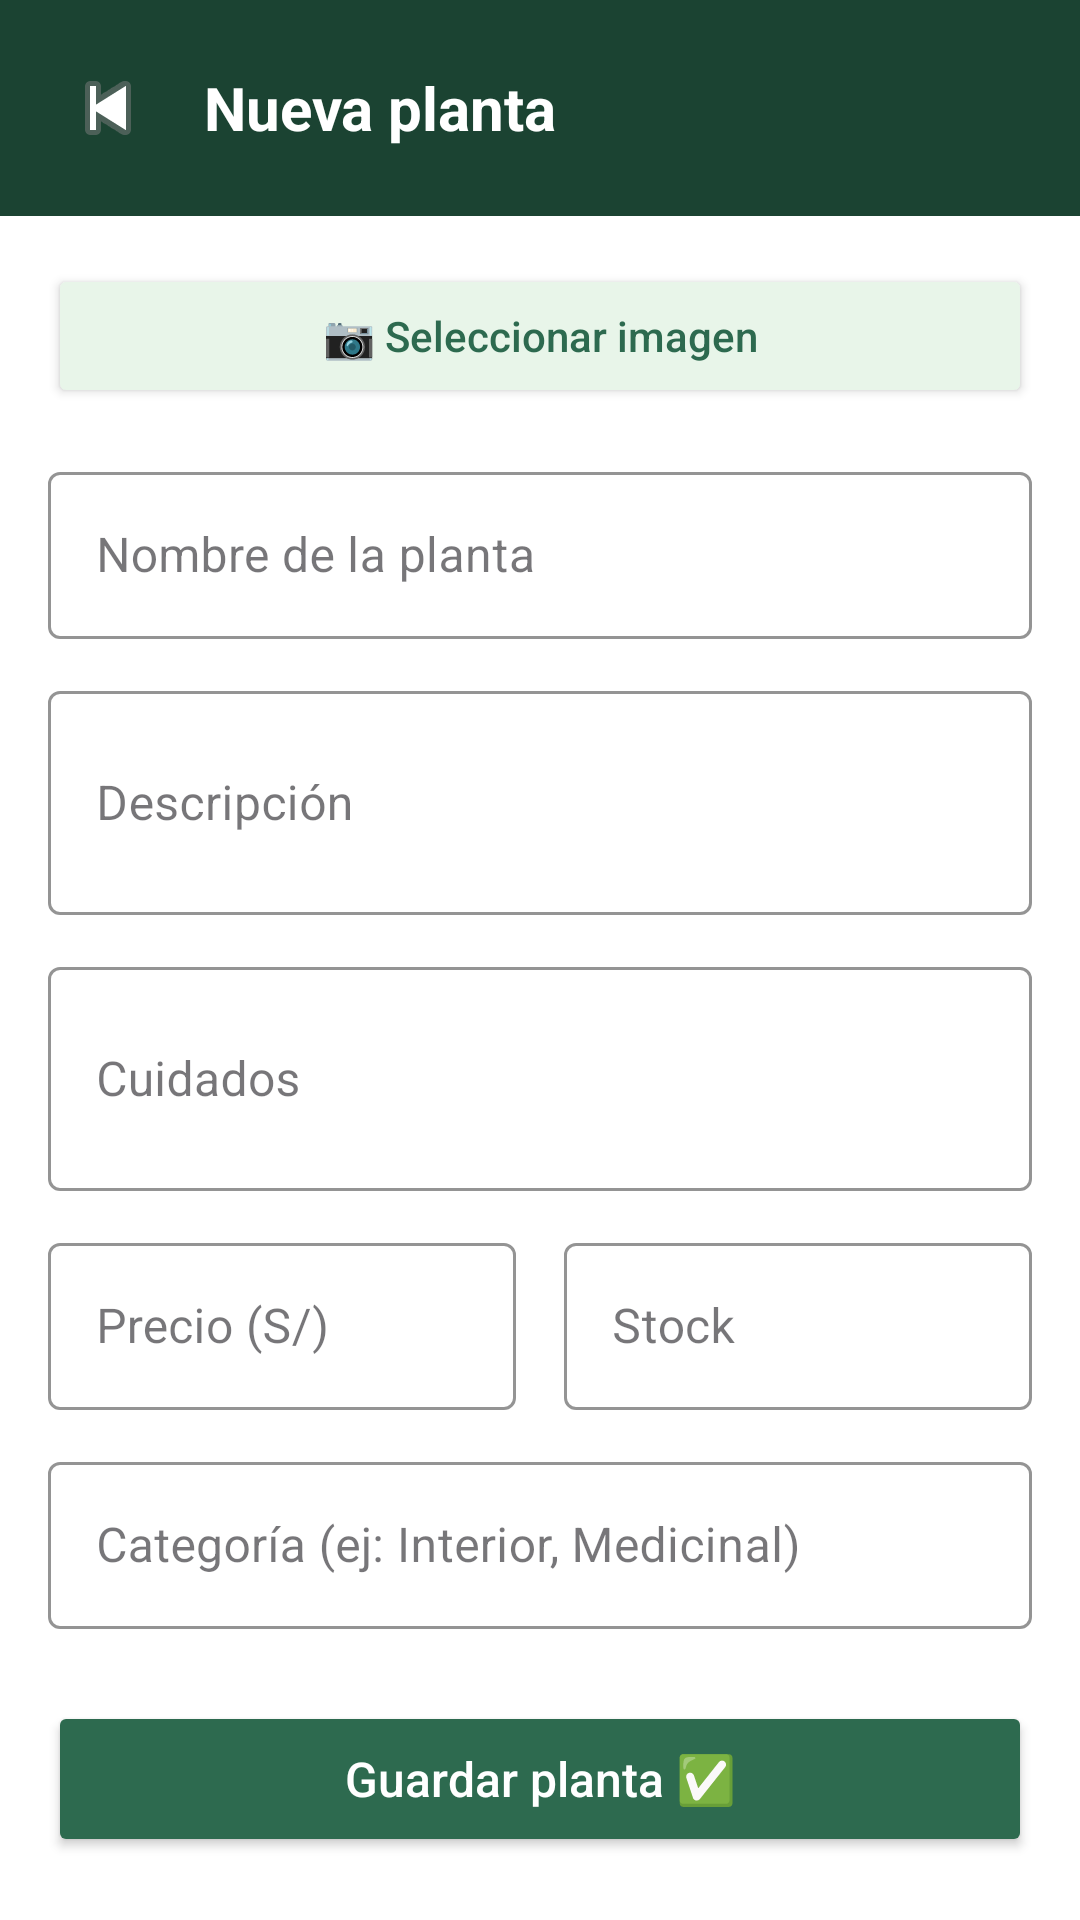

Named icons in this screenshot (1080×1920) and their bounding boxes, (x1, y1, x2, y2):
Volver: (85, 81, 131, 135)
